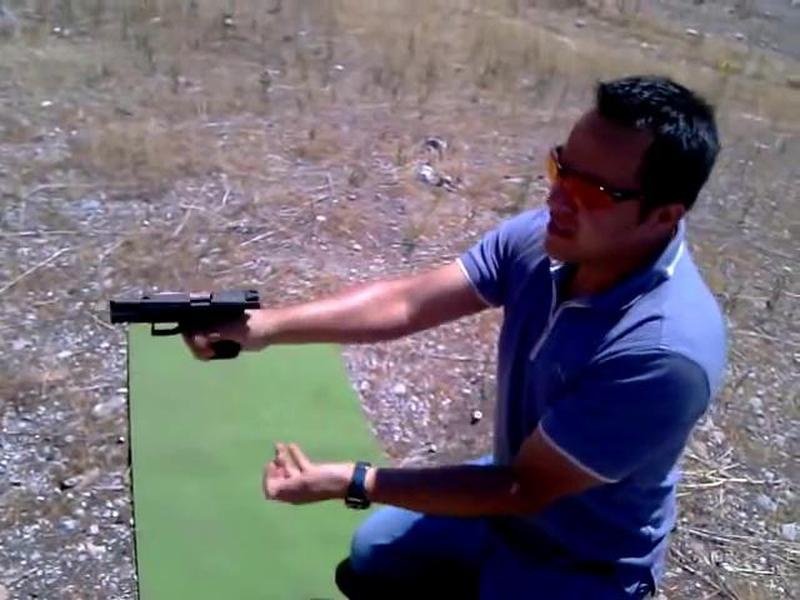Pistola: (101, 278, 278, 366)
